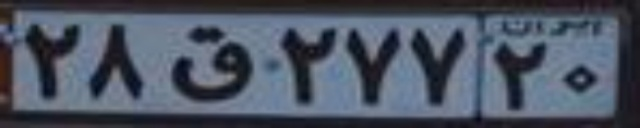0: (558, 63, 603, 96)
2: (281, 26, 337, 105), (22, 23, 77, 101), (492, 40, 546, 111)
7: (407, 25, 466, 106), (344, 27, 395, 106)
8: (87, 23, 144, 101)
ghaf: (172, 26, 260, 101)
